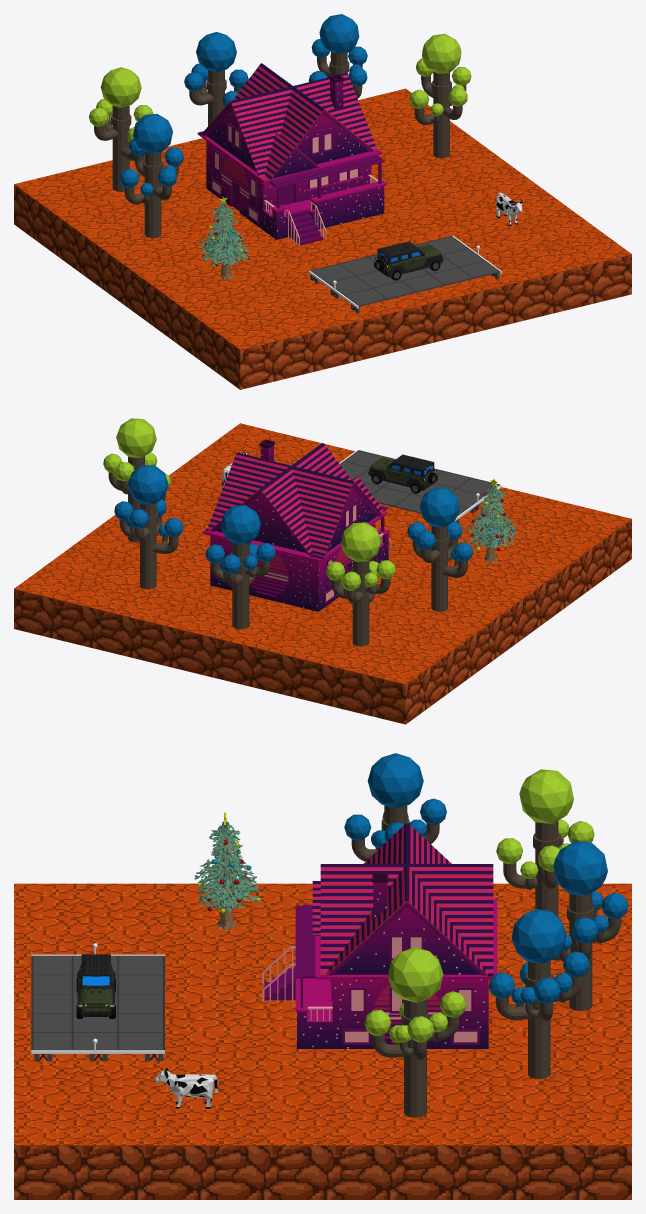
3 renders of one model, top to bottom at view 1: azimuth 30°, elevation 25°; view 2: azimuth 150°, elevation 25°; view 3: azimuth 270°, elevation 25°, orthographic. The views are drawn at different scales.
Visible parts, largest first — view 1: Cube.001, Cube.156, OBJRANDOM_CHRISTMAS_TREE, VEHICLES_JEEP, ANIMAL_VACA; view 2: Cube.001, Cube.156, OBJRANDOM_CHRISTMAS_TREE, VEHICLES_JEEP; view 3: Cube.001, Cube.156, OBJRANDOM_CHRISTMAS_TREE, VEHICLES_JEEP, ANIMAL_VACA.
Part boxes in pixels (x1=…): Cube.001: x1=14, y1=14, x2=631, y2=389; Cube.156: x1=197, y1=63, x2=387, y2=246; OBJRANDOM_CHRISTMAS_TREE: x1=198, y1=196, x2=250, y2=280; VEHICLES_JEEP: x1=374, y1=241, x2=443, y2=280; ANIMAL_VACA: x1=496, y1=192, x2=522, y2=225; Cube.001: x1=14, y1=418, x2=631, y2=724; Cube.156: x1=202, y1=439, x2=391, y2=611; OBJRANDOM_CHRISTMAS_TREE: x1=466, y1=479, x2=516, y2=563; VEHICLES_JEEP: x1=368, y1=454, x2=437, y2=493; Cube.001: x1=14, y1=753, x2=631, y2=1199; Cube.156: x1=262, y1=823, x2=497, y2=1048; OBJRANDOM_CHRISTMAS_TREE: x1=194, y1=812, x2=261, y2=930; VEHICLES_JEEP: x1=76, y1=954, x2=115, y2=1018; ANIMAL_VACA: x1=154, y1=1068, x2=218, y2=1108.
Bounding box in the file's own units: 4000 × 1672 × 4000.
32 materials, 6 textured.
